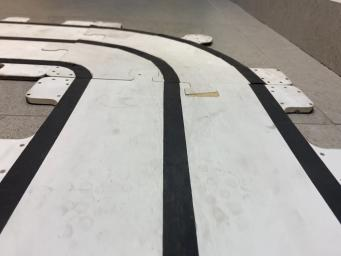street: (0, 16, 341, 256), (0, 16, 341, 256), (0, 16, 341, 256), (0, 16, 341, 256), (0, 16, 341, 256), (0, 16, 341, 256)
